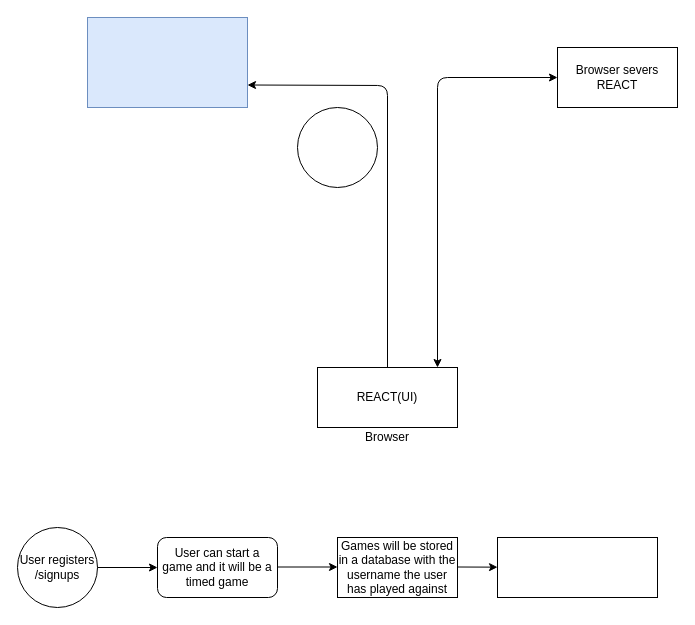
This 695x625 diagram has some shape labels left out. Each missing label, with the box of its shape:
if user is disconnected for more than 30sec, they will automatically resgin: (496, 536, 658, 598)
NODE.js +Express and mongoDB for database: (86, 16, 248, 108)
SOCKET.io to handle chessmoves: (296, 106, 378, 188)
